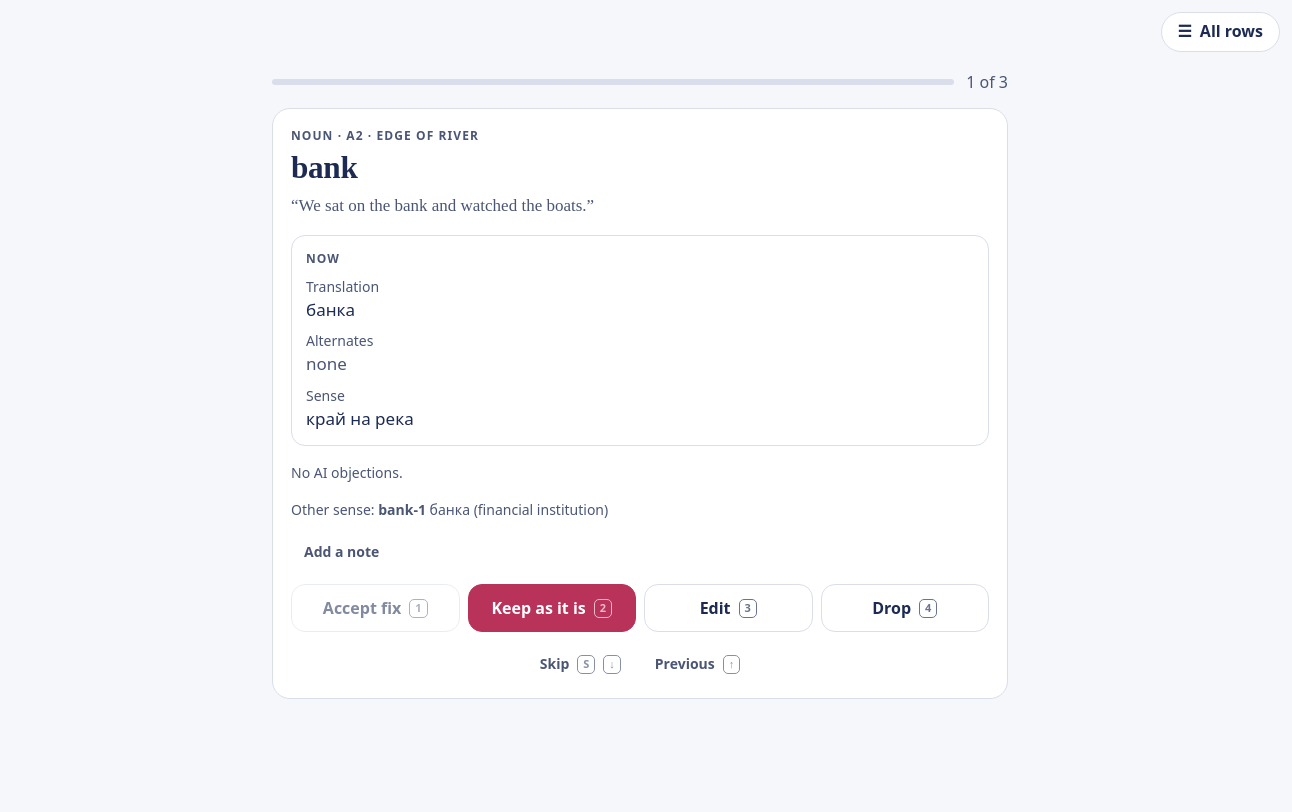
Test: ReviewScreen › falls back to the first undecided row when a reload takes the selected row away
Click the button "Keep as it is 2": x=552, y=608 [468,584,636,632]
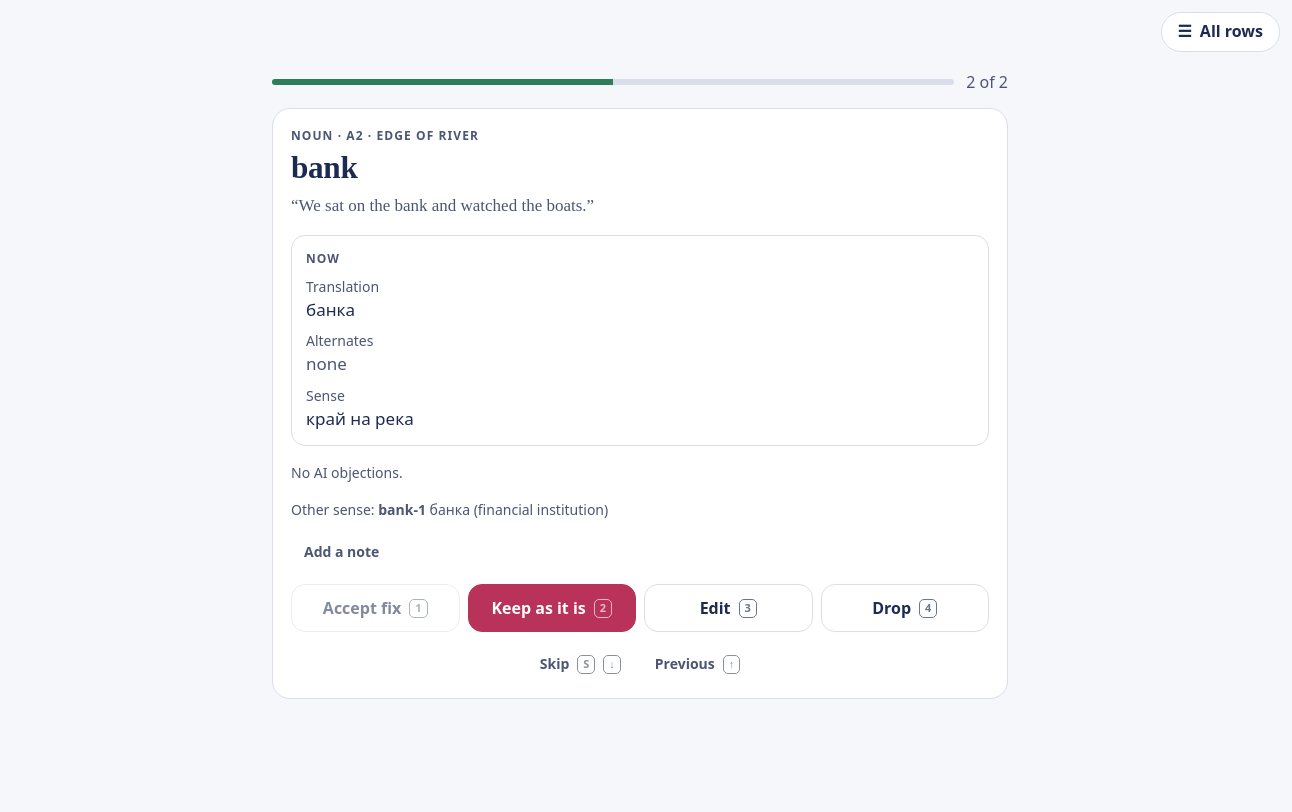
Result: the element named "Row c-1" is shown at [272,70,1008,699]
